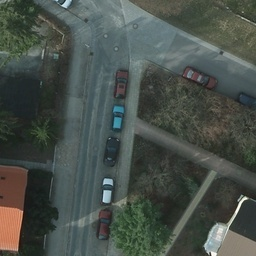car: (183, 65, 217, 88), (110, 104, 126, 134), (97, 209, 112, 241), (102, 136, 117, 167), (114, 62, 125, 101), (100, 178, 114, 208), (236, 91, 255, 111)
